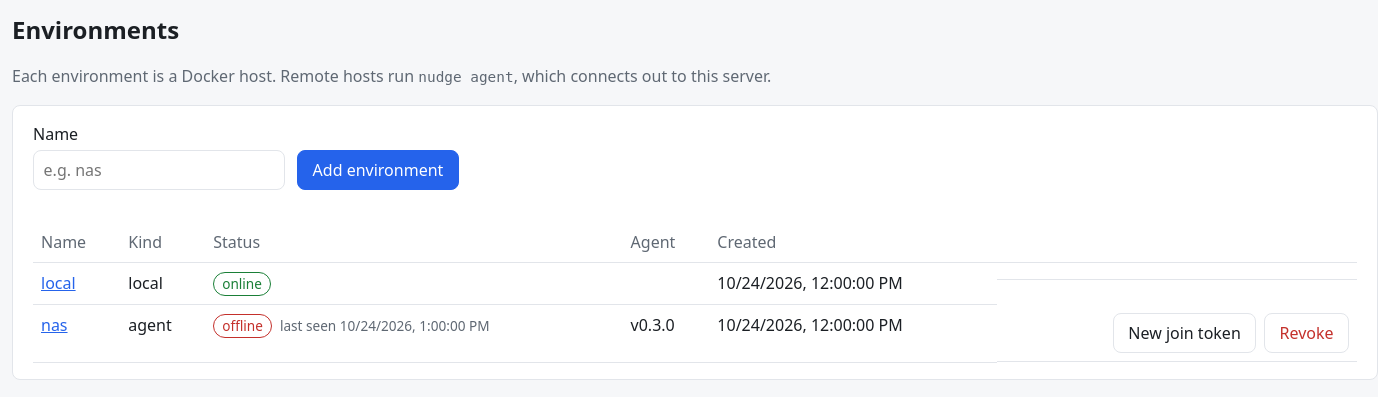
Test: EnvironmentsView › revokes after confirmation
This screenshot has width=1378, height=397.
What coordinates should you click on to do the following:
click the button "Revoke"
I would click on:
 (1307, 333)
Its box is [1264,313,1349,353].
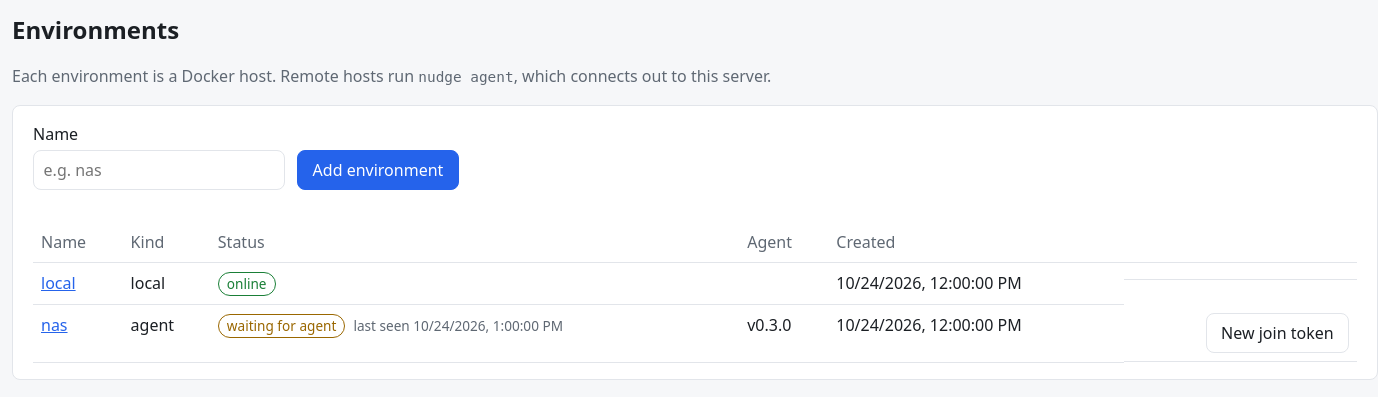
Expected: the row that starts with "nas" shows "waiting for agent", [227,316,336,335]
